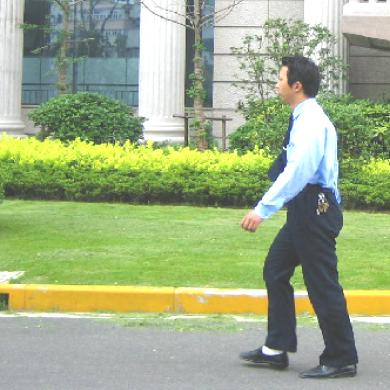ped: (239, 56, 357, 377)
